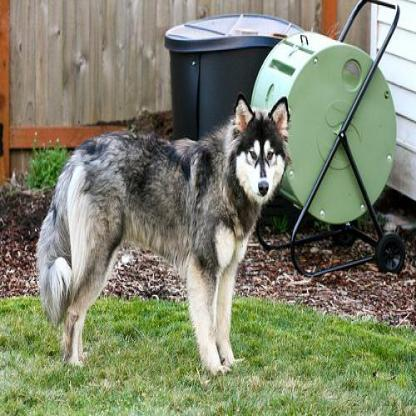malamute: (33, 95, 288, 378)
